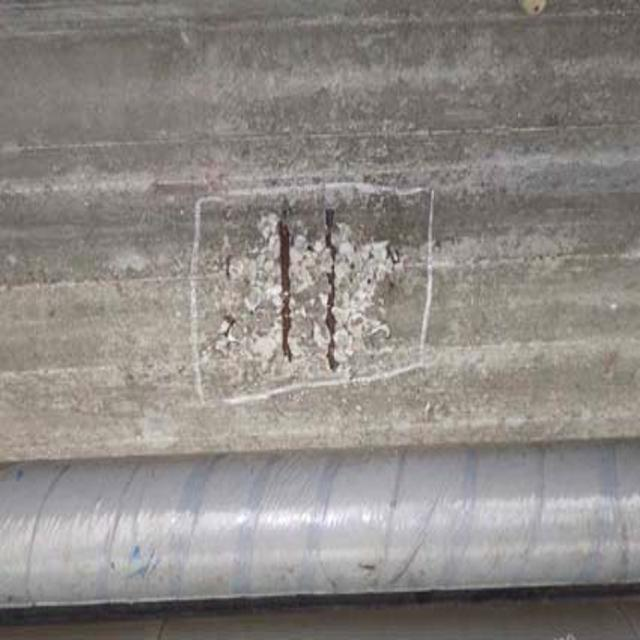spalling: (201, 196, 416, 396)
